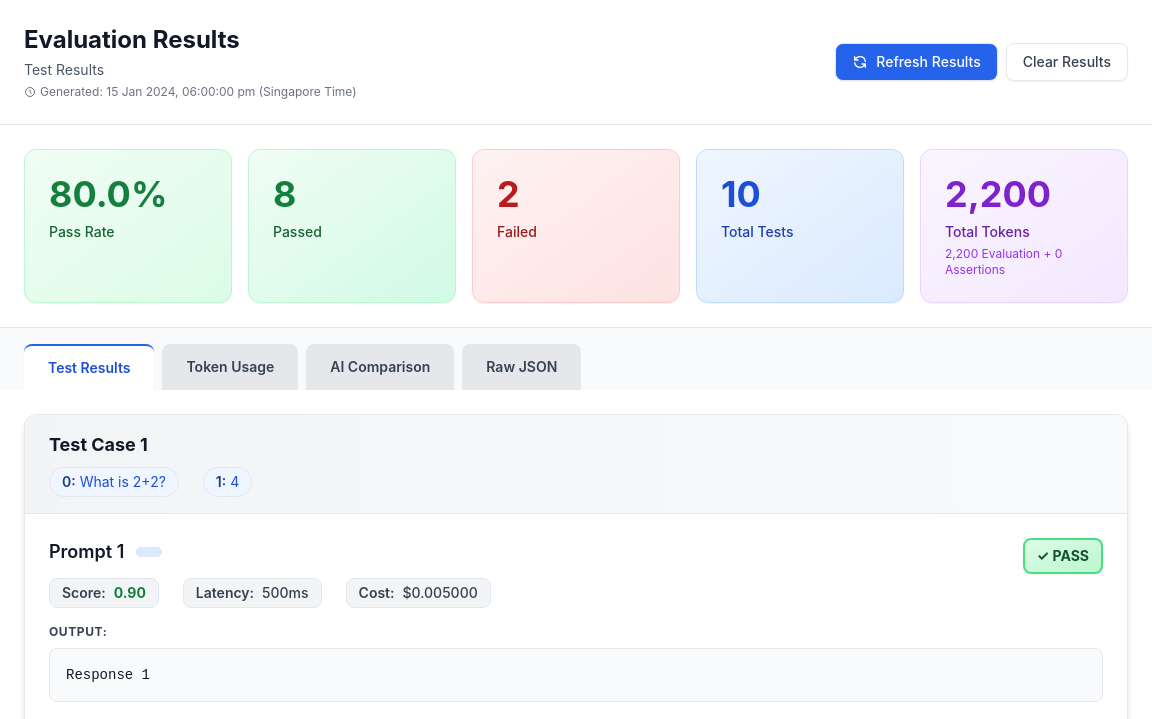
Test: RunResults › Refresh Results › should handle refresh error
The image size is (1152, 719).
Click the button "Refresh Results" at (917, 62), box [835,43,998,81]
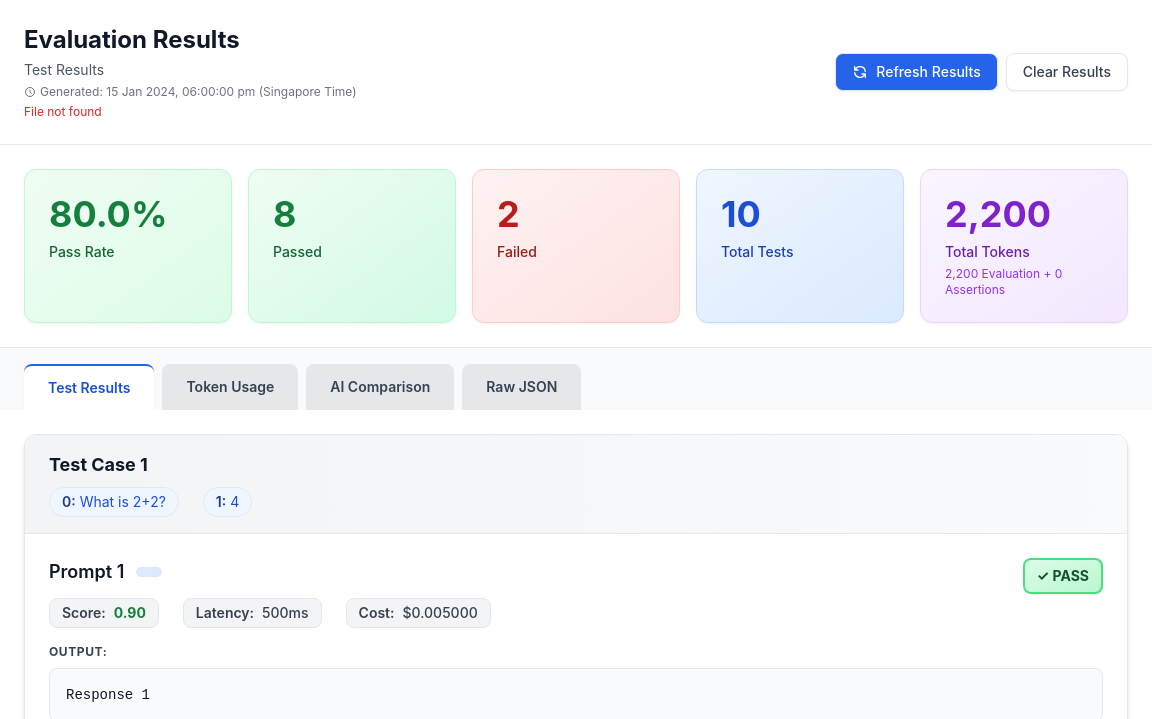
Expected: the text "File not found" is shown, [24,104,102,119]
